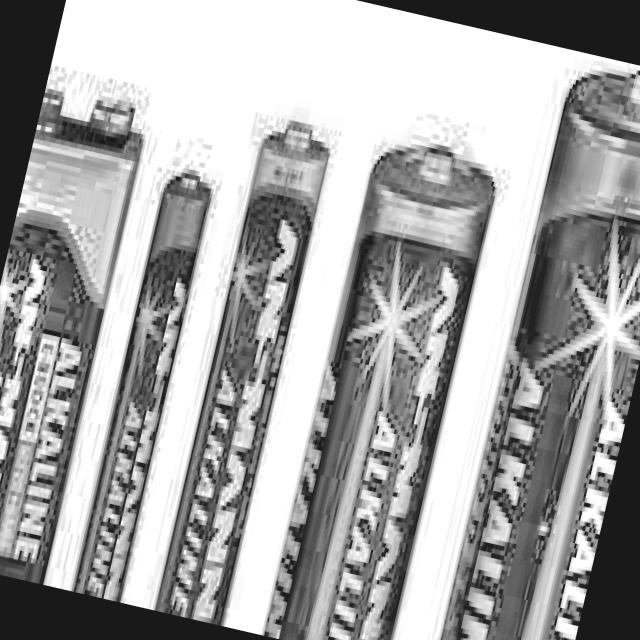Battery: (433, 51, 640, 640), (263, 135, 502, 640), (154, 110, 336, 626), (0, 87, 149, 583), (71, 164, 216, 602)
